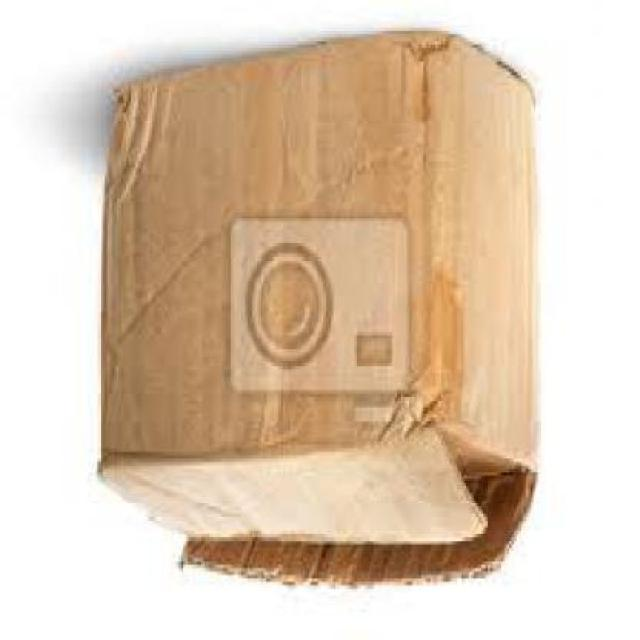CARDBOARD: (97, 31, 542, 586)
